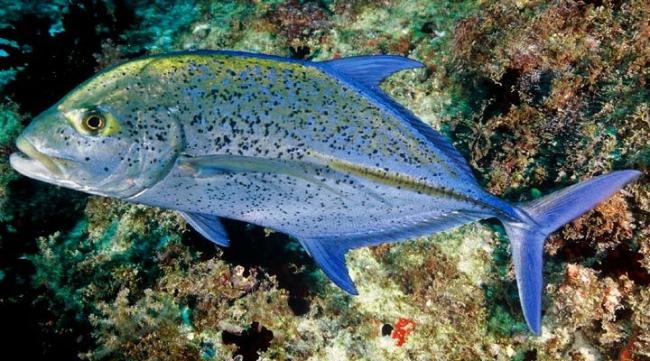fish: (11, 50, 641, 336)
